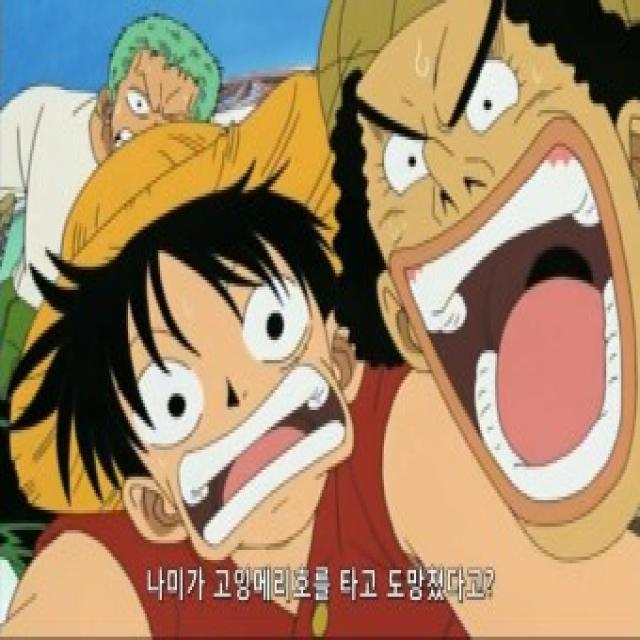Luffy: (58, 88, 337, 557)
Usopp: (320, 0, 640, 559)
Zoro: (94, 0, 231, 166)
